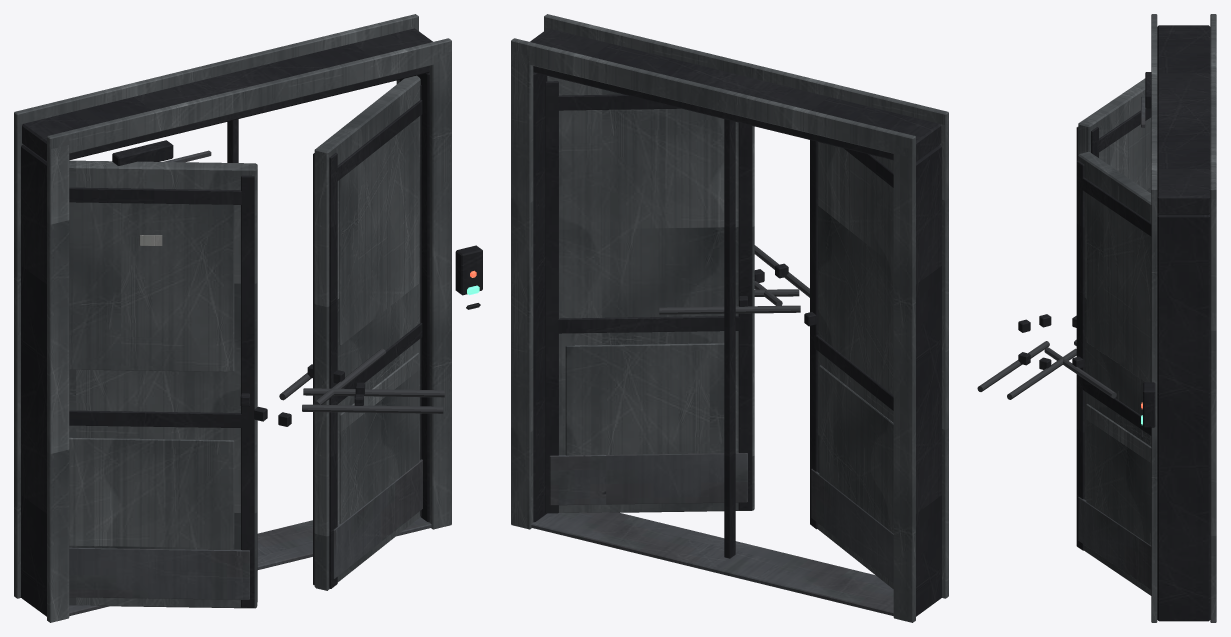
The model's file is door_dbl_card.glb.
3 renders of one model, left to right at view 1: azimuth 30°, elevation 25°; view 2: azimuth 150°, elevation 25°; view 3: azimuth 270°, elevation 25°, orthographic. The views are drawn at different scales.
Parts seen in each view (by area): view 1: door, frame, door2; view 2: frame, door2, door; view 3: frame, door2, door.
Part boxes in pixels (x1,y1,x2,y2): door: [69, 160, 444, 608]; frame: [14, 14, 482, 622]; door2: [254, 75, 422, 590]; frame: [511, 14, 948, 622]; door2: [545, 76, 800, 513]; door: [754, 140, 893, 588]; frame: [1141, 14, 1216, 622]; door2: [1018, 151, 1151, 595]; door: [977, 78, 1151, 399].
Size of the model in its own units: 2.17 by 2.35 by 1.17.
Materials: 7 (5 with a texture image).
